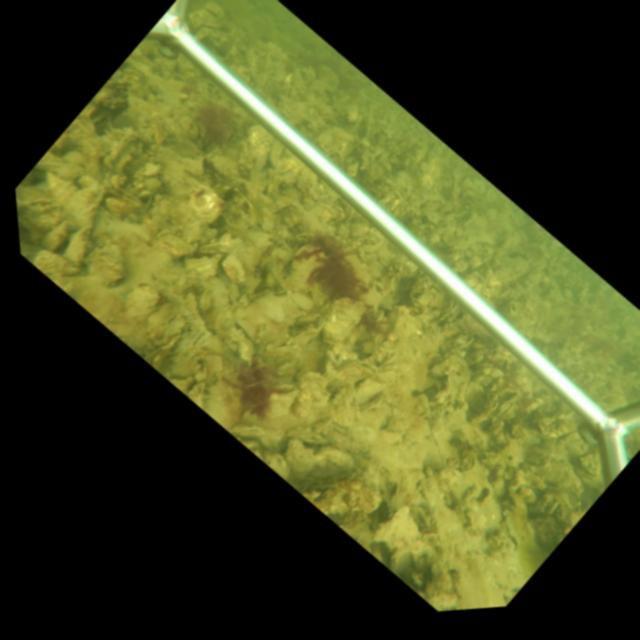Oyster-Closed: (282, 436, 356, 481), (298, 475, 382, 514), (370, 502, 420, 552), (467, 381, 498, 424), (329, 360, 377, 386), (101, 189, 142, 215), (436, 302, 459, 324), (492, 398, 514, 420), (290, 312, 318, 324)
Oyster-Indeterminate: (320, 296, 367, 344)
